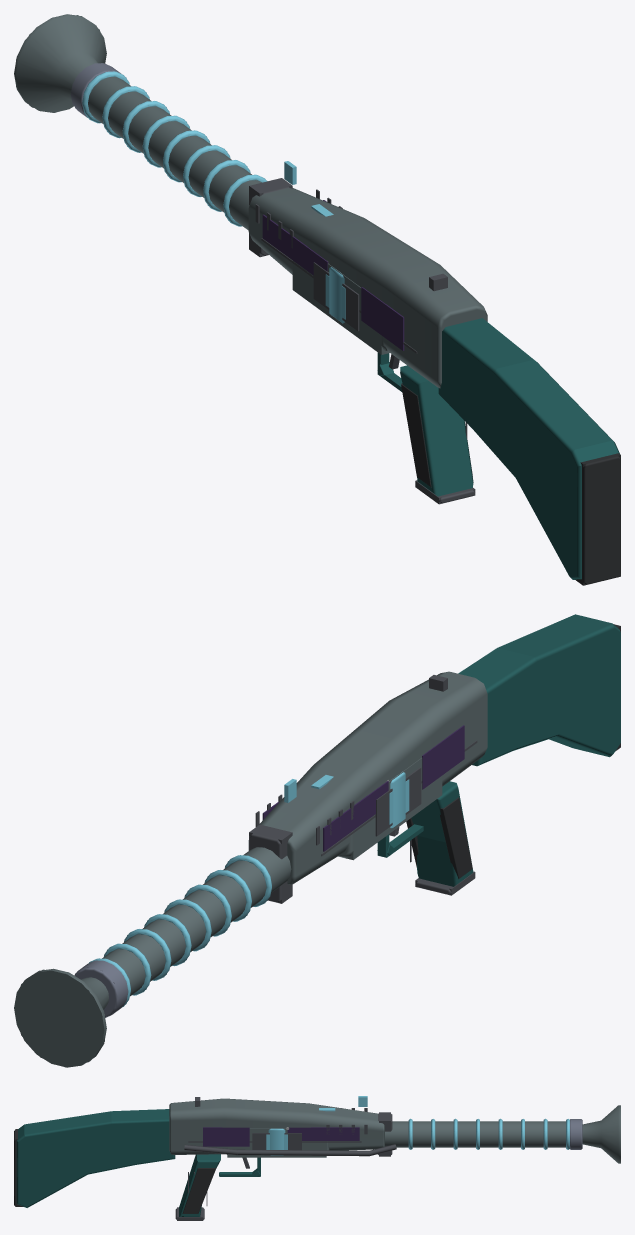
Rendered from qstasis.glb.
The picture shows the model from 3 angles, top to bottom: view 1: azimuth 30°, elevation 25°; view 2: azimuth 150°, elevation 25°; view 3: azimuth 270°, elevation 25°; orthographic projection. The views are drawn at different scales.
Parts seen in each view (by area): view 1: L0, L1; view 2: L0, L1; view 3: L0, L1.
Boxes of the visible parts, left/top/right/bottom form: L0: left=14, top=14, right=620, bottom=584; L1: left=16, top=15, right=620, bottom=585; L0: left=14, top=614, right=620, bottom=1067; L1: left=14, top=625, right=620, bottom=1067; L0: left=14, top=1096, right=620, bottom=1219; L1: left=15, top=1106, right=620, bottom=1220.
Bounding box in the file's own units: 0.0882 × 0.1989 × 0.9178.
